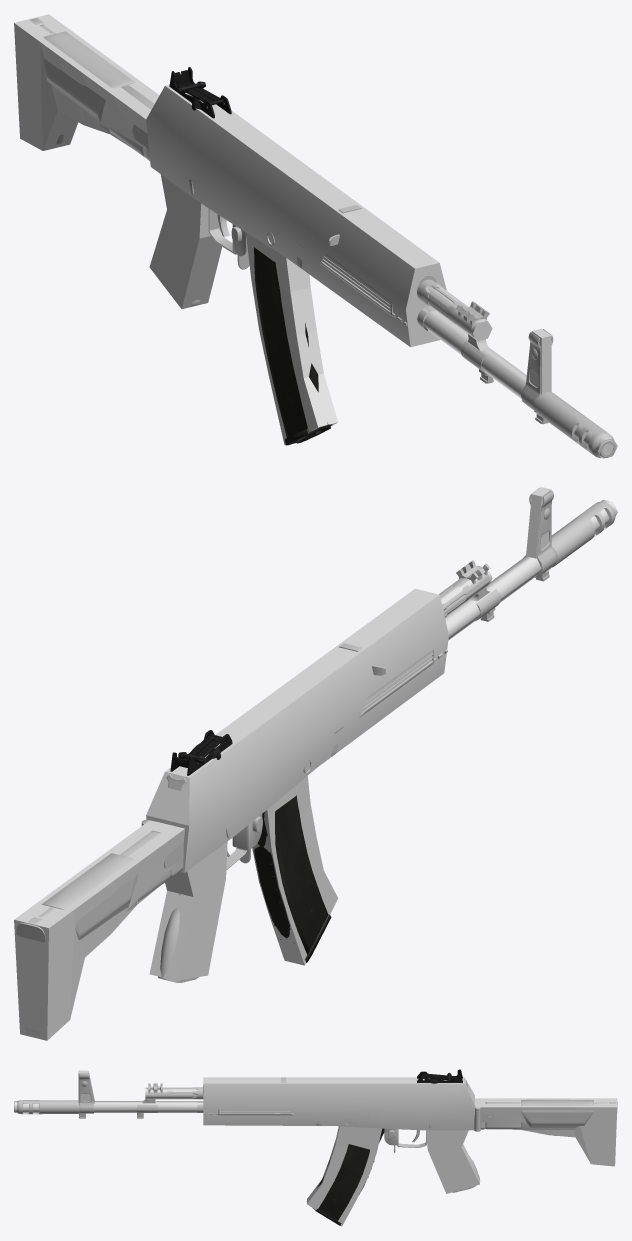
3 renders of one model, top to bottom at view 1: azimuth 30°, elevation 25°; view 2: azimuth 150°, elevation 25°; view 3: azimuth 270°, elevation 25°, orthographic. The views are drawn at different scales.
Parts seen in each view (by area): view 1: lod, ak12; view 2: lod, ak12; view 3: lod, ak12.
Part boxes in pixels (bbox=[...]): lod: bbox=[14, 14, 617, 458]; ak12: bbox=[29, 18, 615, 457]; lod: bbox=[14, 487, 617, 1040]; ak12: bbox=[16, 487, 615, 1037]; lod: bbox=[14, 1071, 617, 1226]; ak12: bbox=[14, 1069, 617, 1225].
Size of the model in its own units: 4.2 by 22.93 by 82.32.
